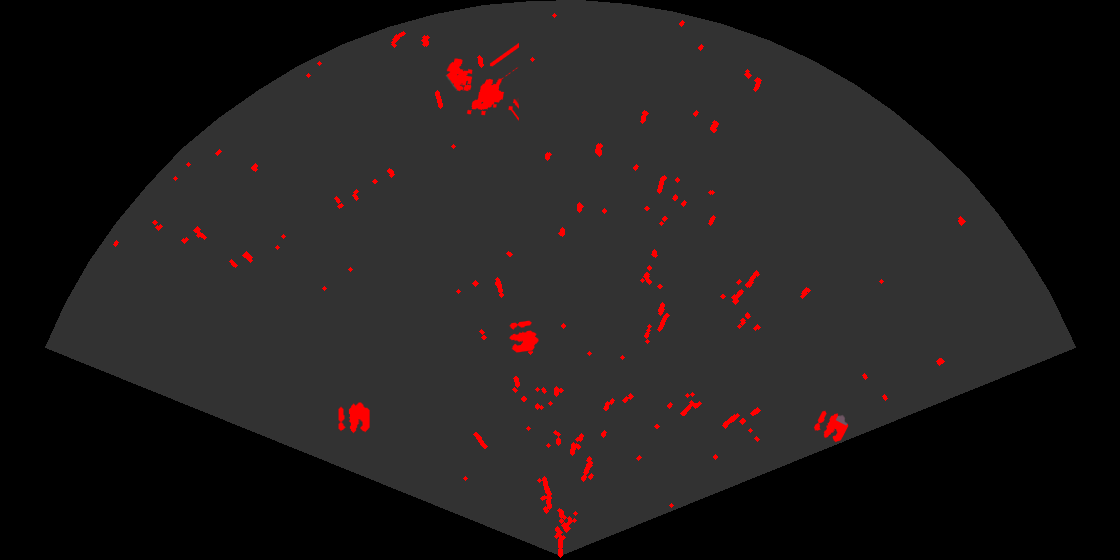ball: (812, 409, 850, 444), (337, 401, 371, 435), (508, 319, 540, 354)
cage: (445, 41, 519, 122)
